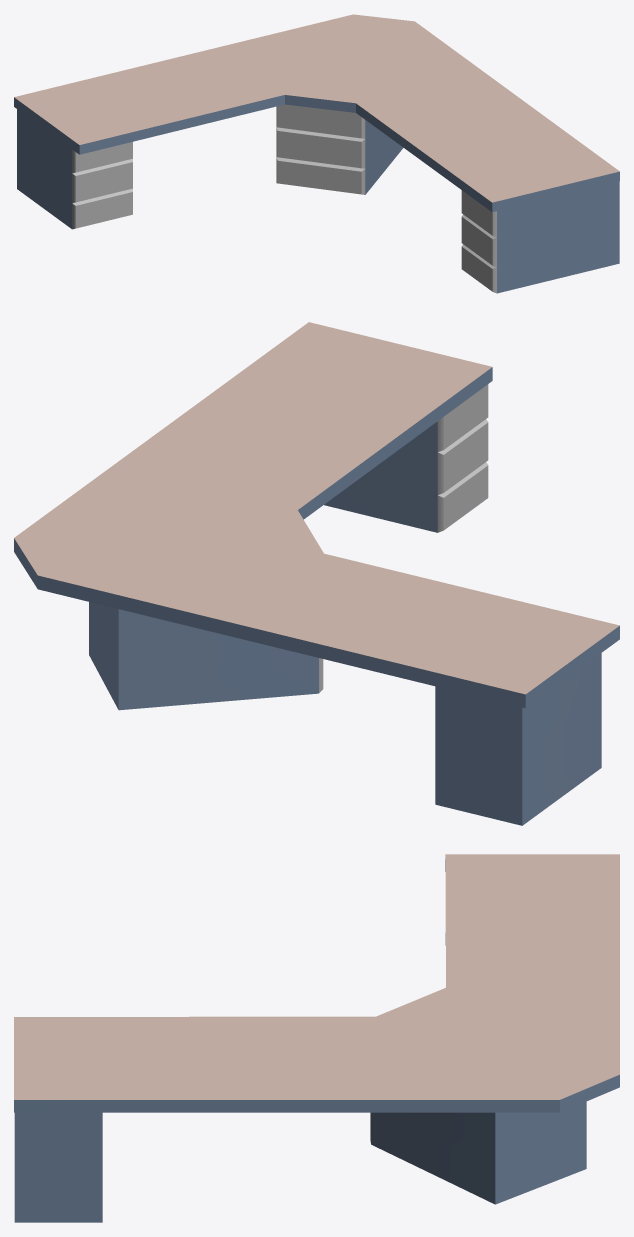
The model's file is SM_Ofice_Table.fbx.
3 renders of one model, top to bottom at view 1: azimuth 30°, elevation 25°; view 2: azimuth 150°, elevation 25°; view 3: azimuth 270°, elevation 25°, orthographic. The views are drawn at different scales.
Parts seen in each view (by area): view 1: SM_Ofice_Table; view 2: SM_Ofice_Table; view 3: SM_Ofice_Table.
Boxes of the visible parts, box(x1,y1,x2,y2) form: SM_Ofice_Table: box(14, 14, 619, 293); SM_Ofice_Table: box(14, 322, 619, 825); SM_Ofice_Table: box(14, 854, 619, 1222).
Bounding box in the file's own units: 424 × 98.93 × 442.
